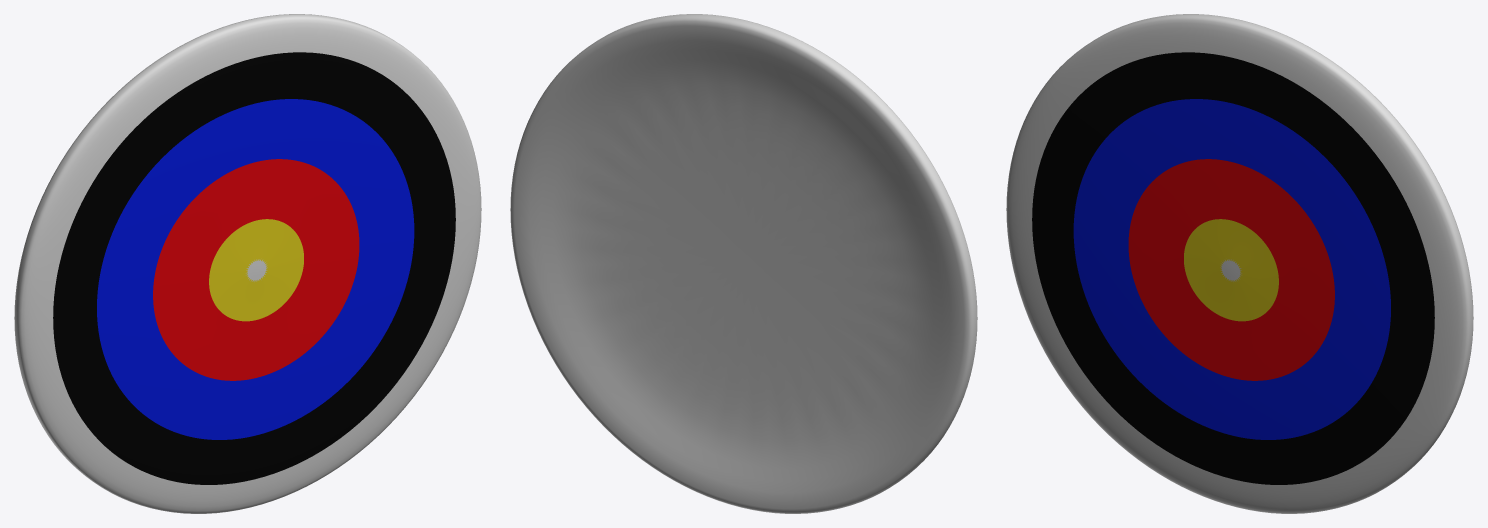
File: Mato.fbx
3 views of the same model, side by side, from view 1: azimuth 30°, elevation 25°; view 2: azimuth 150°, elevation 25°; view 3: azimuth 330°, elevation 25° (orthographic).
Parts seen in each view (by area): view 1: 円柱; view 2: 円柱; view 3: 円柱.
Part boxes in pixels (x1,y1,x2,y2): 円柱: [14, 14, 481, 513]; 円柱: [510, 14, 977, 513]; 円柱: [1006, 14, 1473, 513].
Bounding box in the file's own units: 208 × 208 × 10.63.
